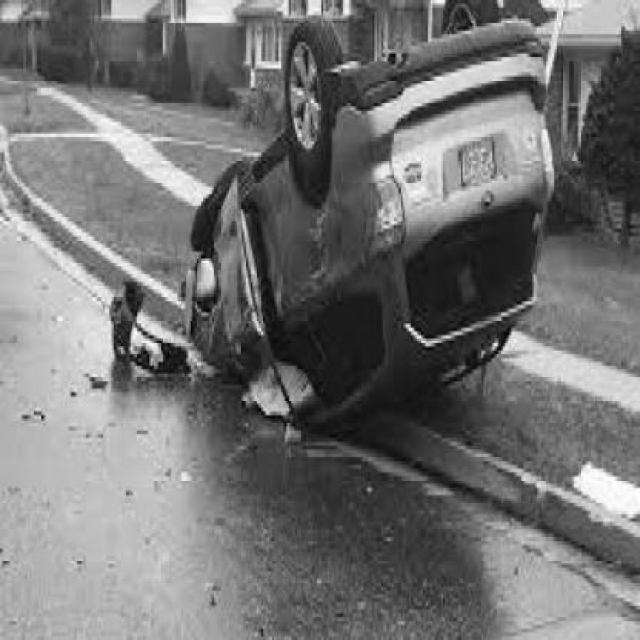accident: (107, 0, 569, 422)
